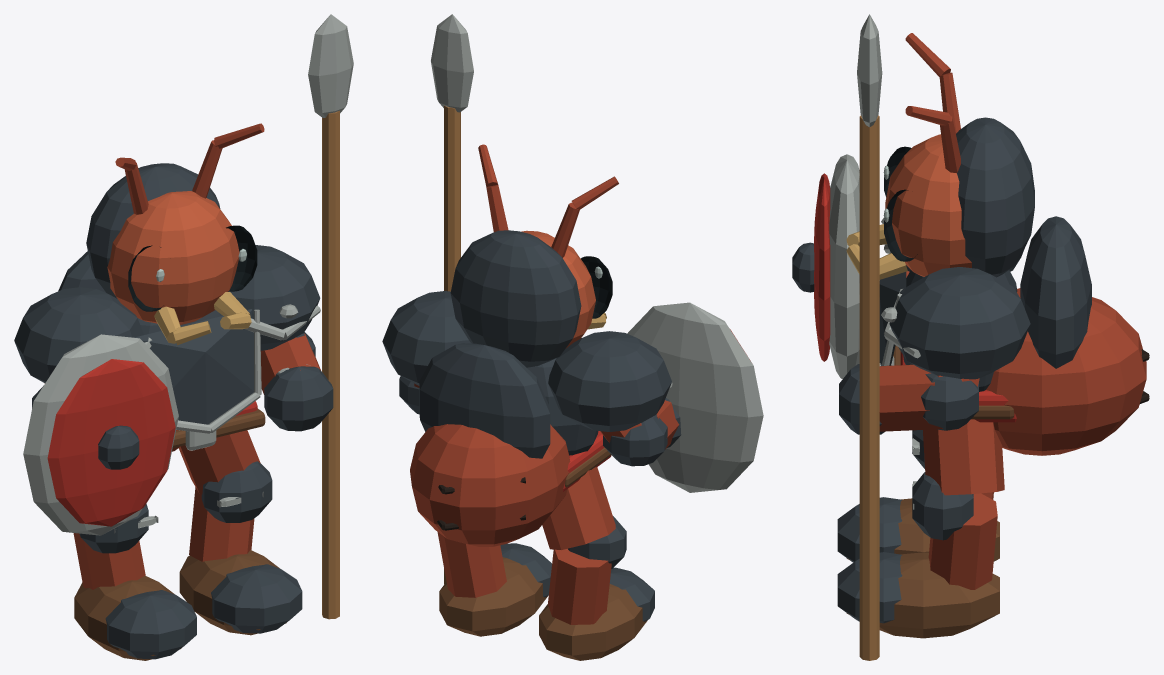
Rendered from warrior.glb.
3 views of the same model, side by side, from view 1: azimuth 30°, elevation 25°; view 2: azimuth 150°, elevation 25°; view 3: azimuth 270°, elevation 25° (orthographic). The views are drawn at different scales.
Visible parts, largest first — view 1: warrior; view 2: warrior; view 3: warrior.
Boxes of the visible parts, box(x1,y1,x2,y2) form: warrior: box(14, 14, 353, 660); warrior: box(382, 14, 763, 660); warrior: box(792, 14, 1149, 660).
Bounding box in the file's own units: 1.49 × 2.55 × 1.26.
